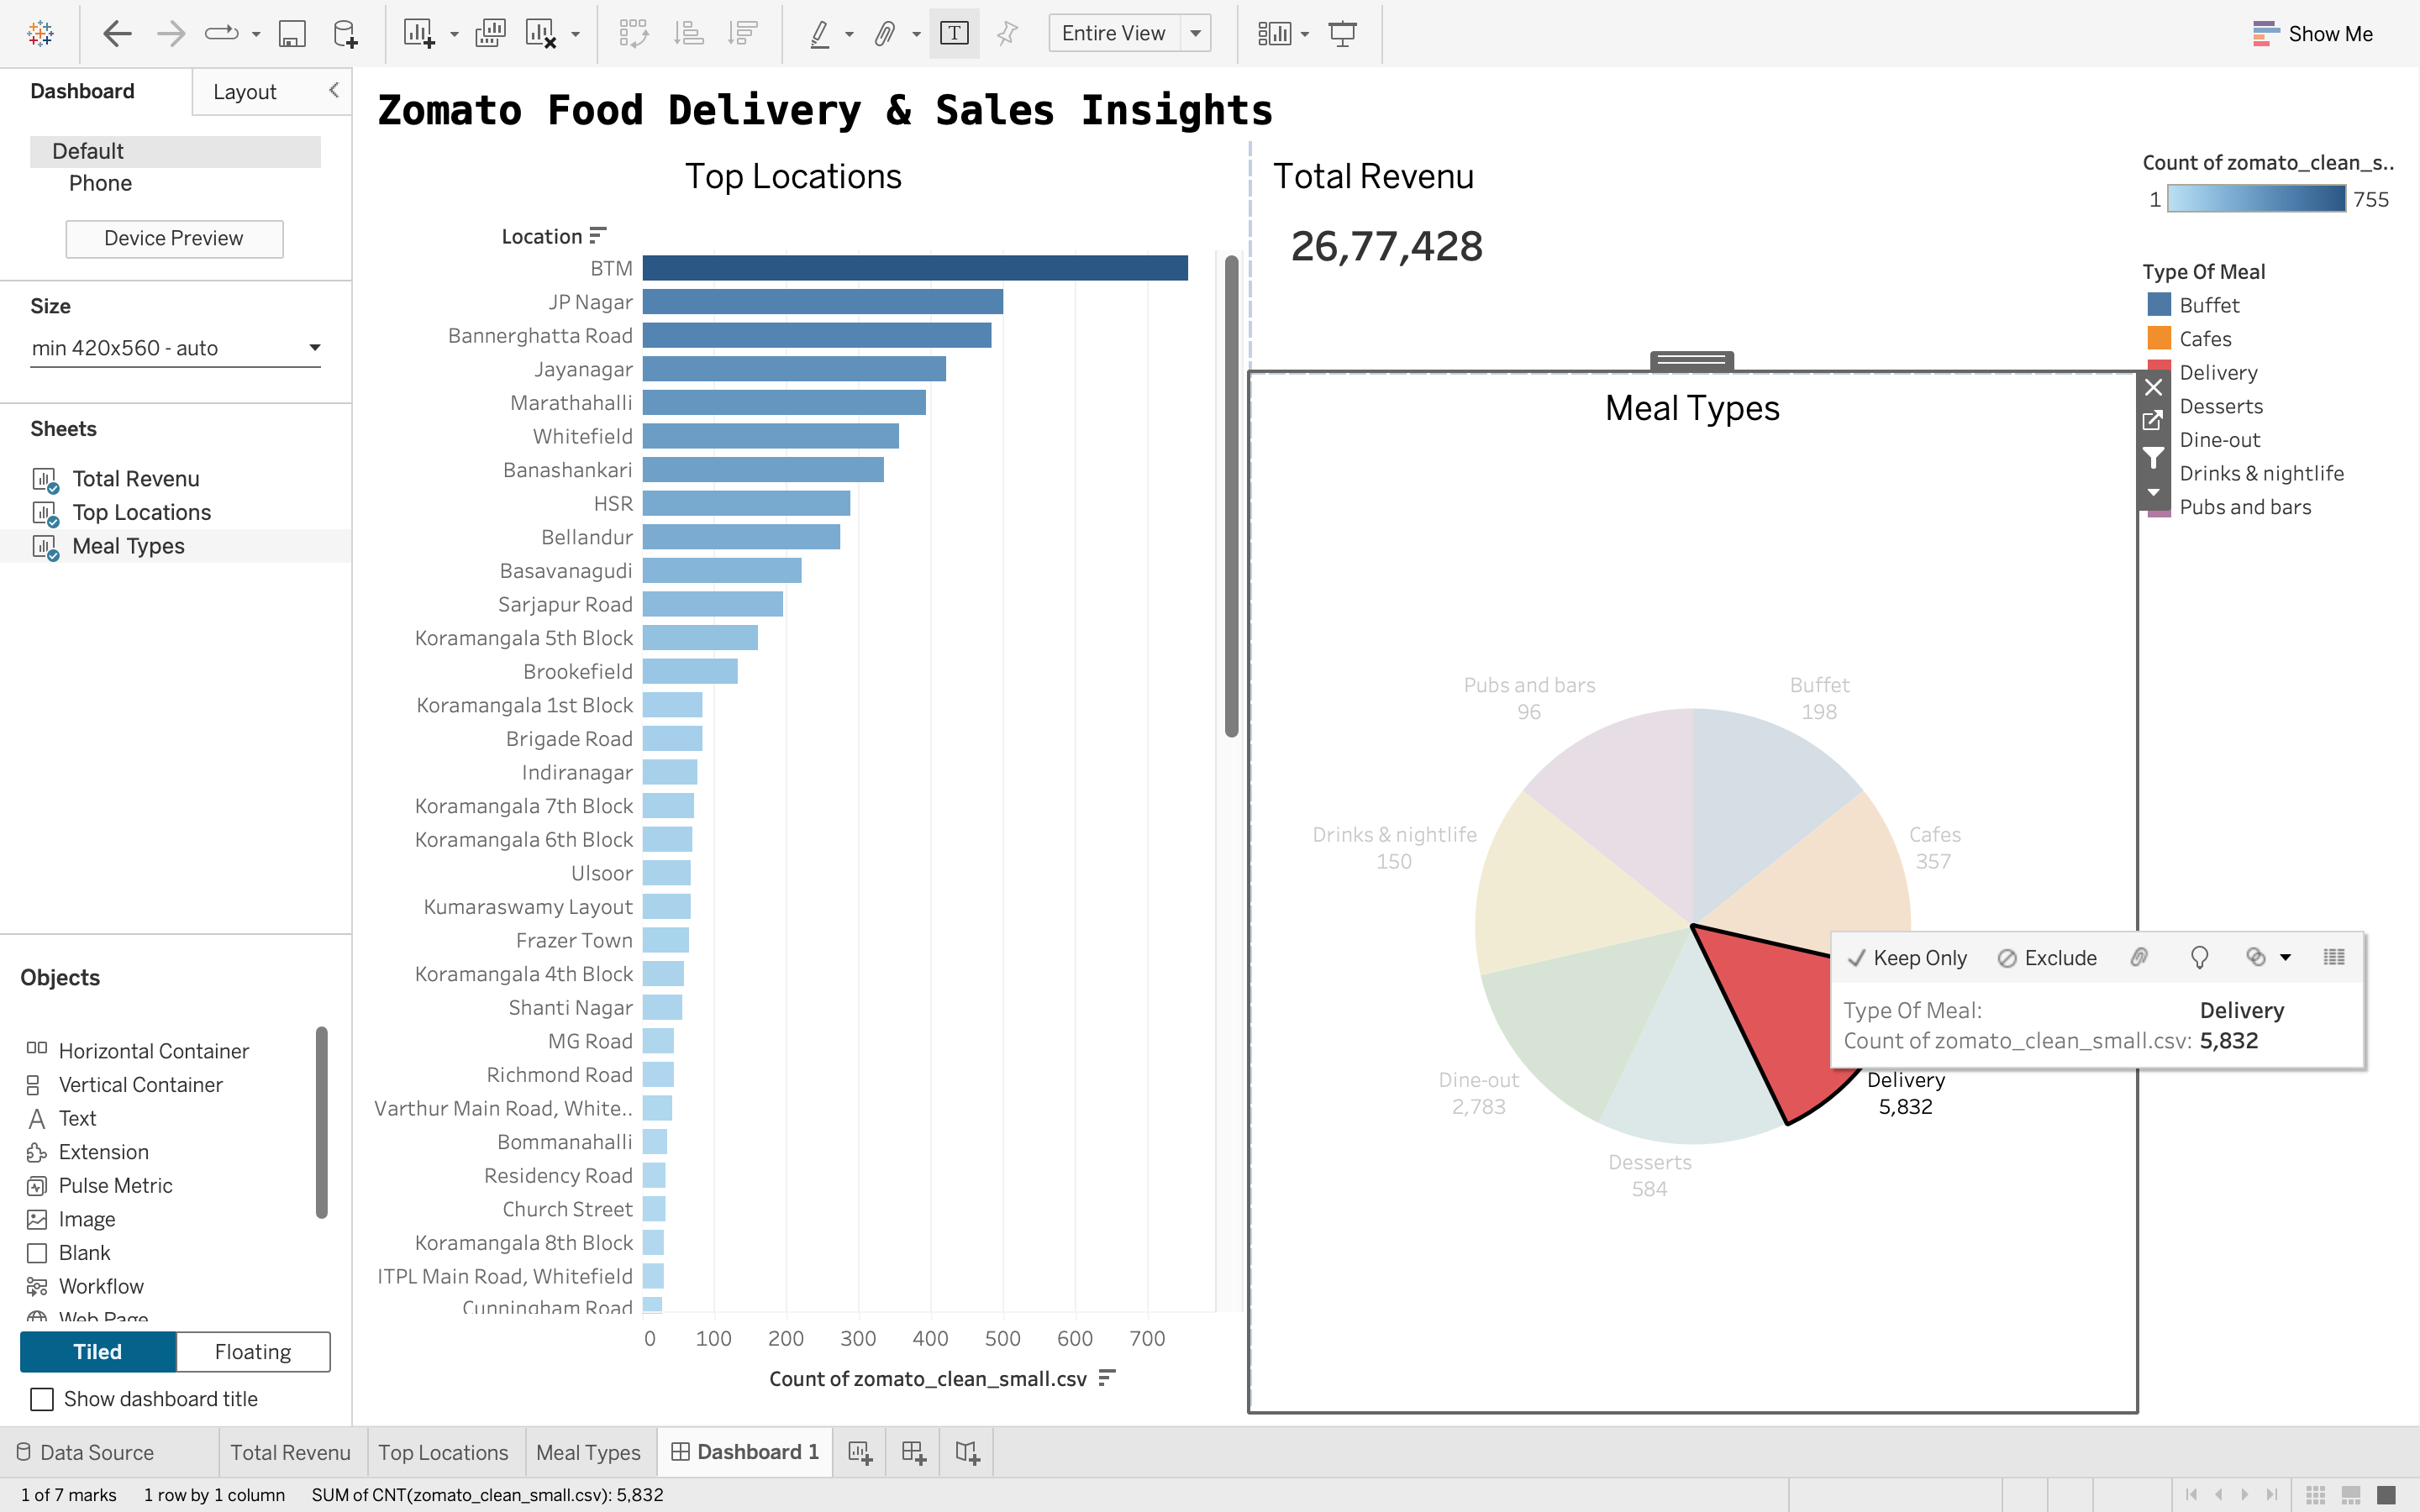

The page's visual inventory and layout, read from the dashboard file:
{"tool":"tableau","page":{"name":"Dashboard 1","canvas":[1000,1000],"units":"permille","ordinal":0},"visuals":[{"type":"title","box":[6.5,9.9,987,44.6]},{"type":"worksheet","title":"Top Locations","mark":"Automatic","rows":["location"],"cols":["zomato_clean_small.csv_3DFC4BA9CEB04148B023540E3E4632C1"],"box":[6.5,54.5,428.4,935.6]},{"type":"worksheet","title":"Total Revenu","mark":"Text","box":[434.9,54.5,428.4,170.5]},{"type":"legend","title":"Top Locations","param":"[federated.1fathli1wup1ct1fncezy1ppr5rj].[__tableau_internal_object_id__].[cnt:z","box":[863.3,54.5,130.2,80.4]},{"type":"legend","title":"Meal Types","param":"[federated.1fathli1wup1ct1fncezy1ppr5rj].[none:type_of_meal:nk]","box":[863.3,134.9,130.2,205.4]},{"type":"worksheet","title":"Meal Types","mark":"Pie","box":[434.9,224.9,428.4,765.2]}]}

Visuals, with their boxes on the dashboard's canvas, which has no fixed pixel size, in thousandths of its width and height (x1, y1, x2, y2). These are canvas units, not pixel positions in the 2420x1512 screenshot, which may show the page scaled, cropped or inside an application window:
title: 6 10 994 54
"Top Locations" worksheet: 6 54 435 990
"Total Revenu" worksheet (Text marks): 435 54 863 225
"Top Locations" legend: 863 54 994 135
"Meal Types" legend: 863 135 994 340
"Meal Types" worksheet (Pie marks): 435 225 863 990
